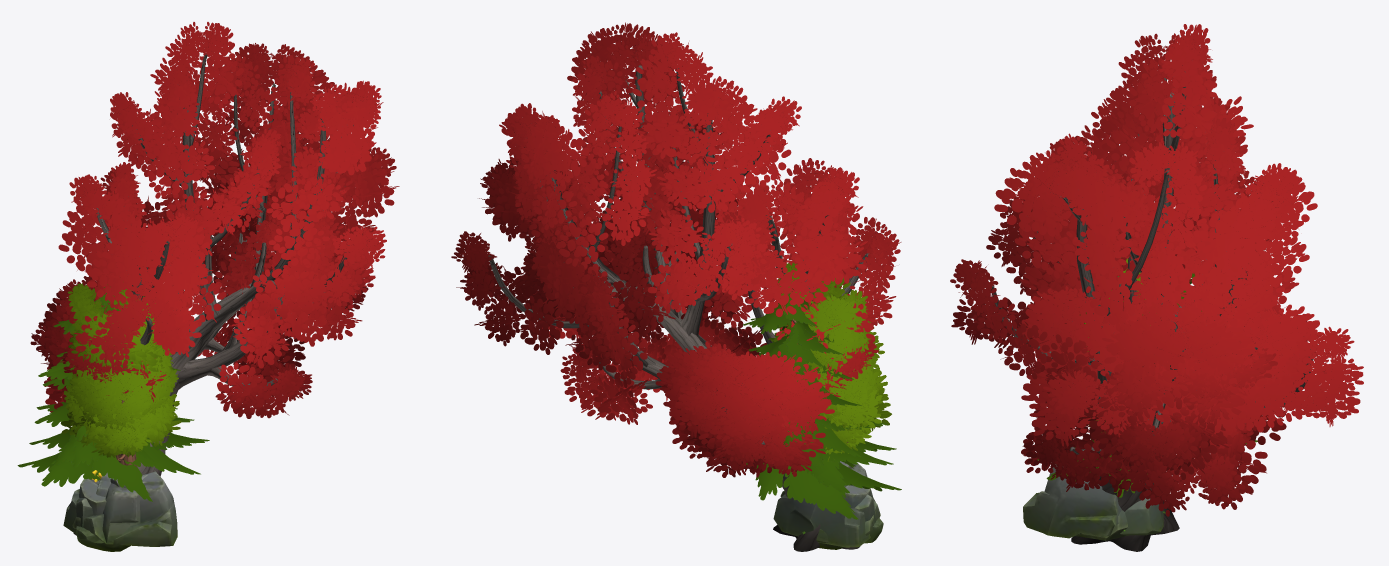
File: nature.glb
The picture shows the model from 3 angles, left to right: view 1: azimuth 30°, elevation 25°; view 2: azimuth 150°, elevation 25°; view 3: azimuth 270°, elevation 25°; orthographic projection. The views are drawn at different scales.
Parts seen in each view (by area): view 1: TwistedTree_1, Pine_5, CommonTree_3, Rock_Medium_3, CommonTree_1, CommonTree_2, Rock_Medium_1, Rock_Medium_2, CommonTree_5; view 2: TwistedTree_1, Pine_5, CommonTree_3, Rock_Medium_2, CommonTree_1, CommonTree_2, CommonTree_5, Rock_Medium_1, Rock_Medium_3; view 3: TwistedTree_1, Rock_Medium_3, Rock_Medium_2.
Boxes of the visible parts, x1=… form: TwistedTree_1: x1=30, y1=22, x2=399, y2=535; Pine_5: x1=17, y1=287, x2=209, y2=501; CommonTree_3: x1=67, y1=283, x2=178, y2=464; Rock_Medium_3: x1=76, y1=471, x2=177, y2=551; CommonTree_1: x1=61, y1=342, x2=181, y2=457; CommonTree_2: x1=63, y1=339, x2=179, y2=466; Rock_Medium_1: x1=72, y1=475, x2=147, y2=544; Rock_Medium_2: x1=63, y1=478, x2=106, y2=534; CommonTree_5: x1=68, y1=364, x2=169, y2=455; TwistedTree_1: x1=451, y1=22, x2=901, y2=551; Pine_5: x1=743, y1=288, x2=901, y2=519; CommonTree_3: x1=778, y1=262, x2=884, y2=433; Rock_Medium_2: x1=773, y1=485, x2=870, y2=547; CommonTree_1: x1=786, y1=333, x2=891, y2=452; CommonTree_2: x1=771, y1=330, x2=890, y2=442; CommonTree_5: x1=815, y1=367, x2=882, y2=461; Rock_Medium_1: x1=816, y1=461, x2=880, y2=549; Rock_Medium_3: x1=780, y1=485, x2=883, y2=543; TwistedTree_1: x1=950, y1=24, x2=1363, y2=551; Rock_Medium_3: x1=1023, y1=464, x2=1121, y2=538; Rock_Medium_2: x1=1120, y1=498, x2=1163, y2=535.
Size of the model in its own units: 14.33 by 16.84 by 11.55.
Materials: 11 (11 with a texture image).
